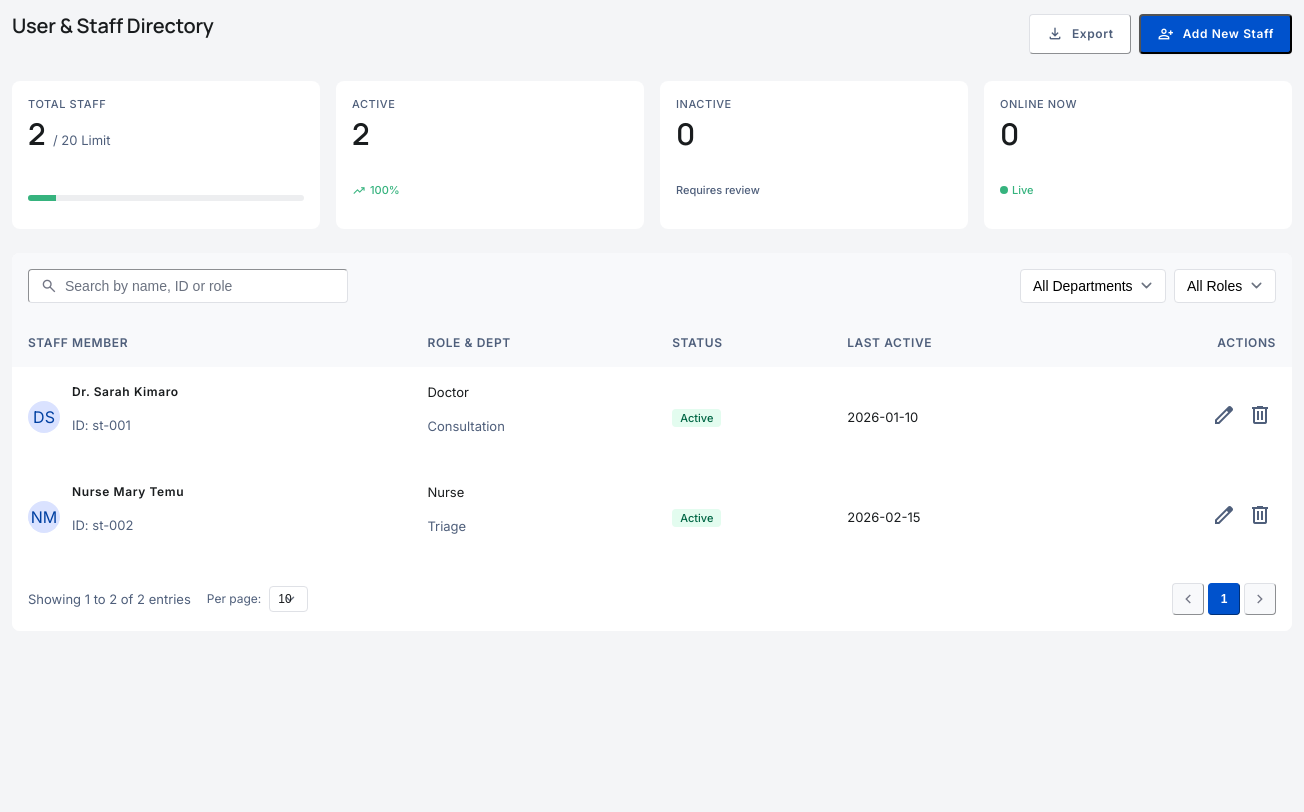
Test: UserManagementPage › filters staff by search keyword
Type "Sarah" into the field with placeholder "Search by name, ID or role".
click(188, 286); type("Sarah")  # box [28,269,348,303]
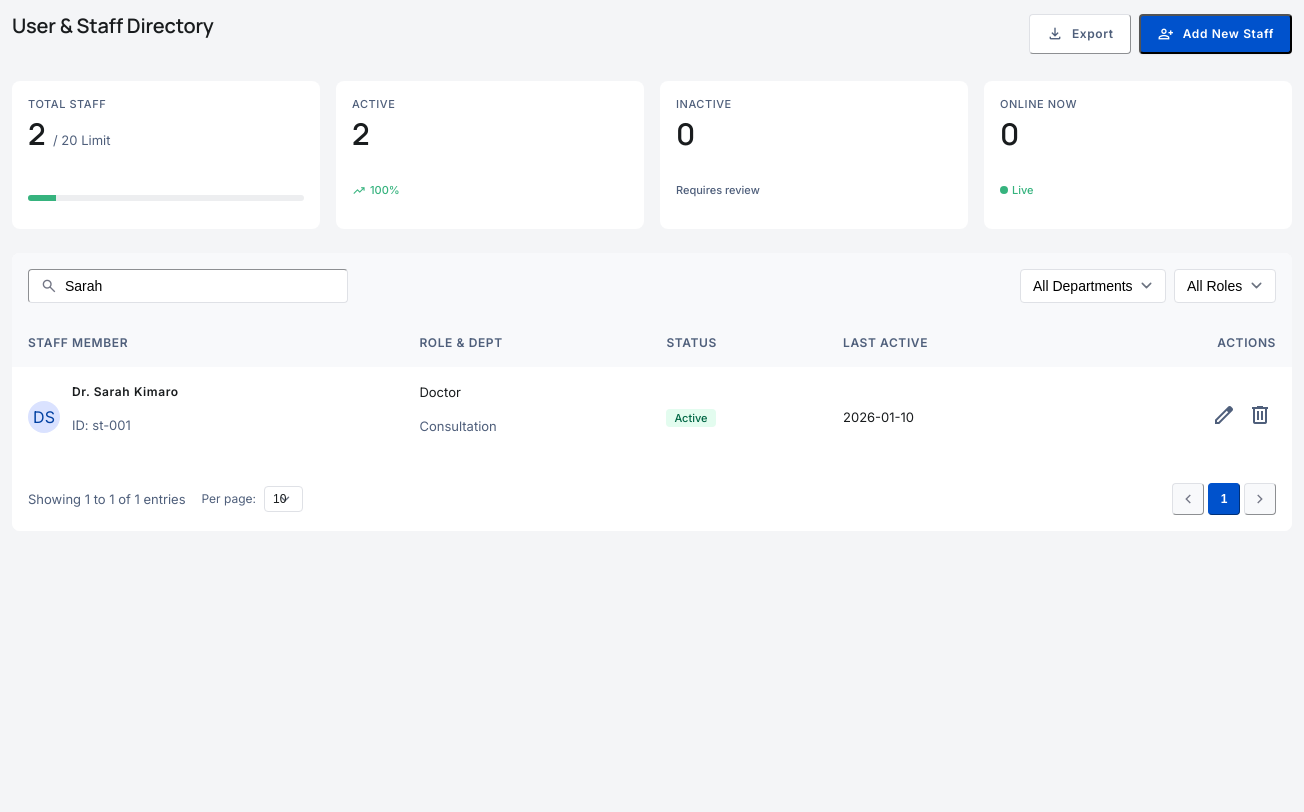
Expected: the text "Dr. Sarah Kimaro" is shown, [72,384,179,400]
Expected: the text "Nurse Mary Temu" is gone
